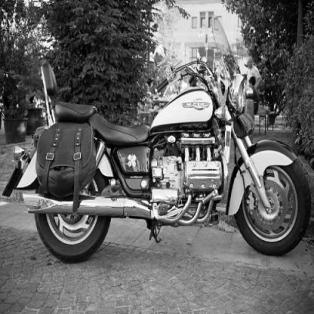Motocicleta: (0, 33, 313, 261)
